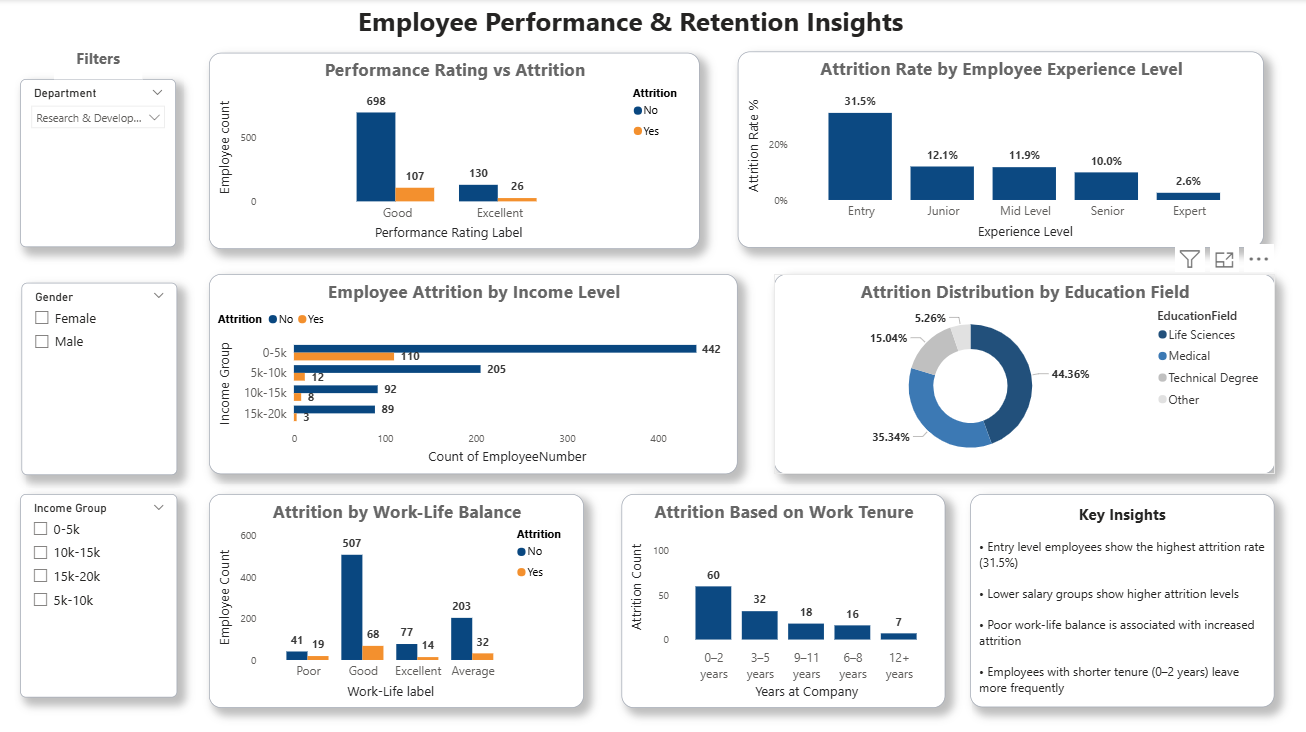

The page's visual inventory and layout, read from the dashboard file:
{"tool":"powerbi","page":{"name":"Employee performance & rentetion insights","canvas":[1600,900],"ordinal":1},"visuals":[{"type":"textbox","box":[207.5,0,1070.3,54.9],"z":0},{"type":"clusteredColumnChart","title":"Performance Rating vs Attrition","fields":{"Y":["CountNonNull(data set.EmployeeNumber)"],"Series":["data set.Attrition"],"Category":["data set.Performance Rating Label"]},"box":[257.3,65.2,600.3,240.1],"z":1000},{"type":"clusteredColumnChart","title":"Attrition Rate by Employee Experience Level","fields":{"Category":["data set.Experience Level"],"Y":["data set.Attrition Rate"]},"box":[903.4,64.2,643.5,240],"z":2000},{"type":"clusteredBarChart","title":"Employee Attrition by Income Level","fields":{"Category":["data set.Income Group"],"Y":["CountNonNull(data set.EmployeeNumber)"],"Series":["data set.Attrition"]},"box":[256.8,336.3,646.6,244.6],"z":3000},{"type":"donutChart","title":"Attrition Distribution by Education Field","fields":{"Category":["data set.EducationField"],"Y":["CountNonNull(data set.EmployeeNumber)"]},"box":[947.7,336.3,612.9,244.6],"z":4000},{"type":"clusteredColumnChart","title":"Attrition by Work-Life Balance","fields":{"Y":["CountNonNull(data set.EmployeeNumber)"],"Series":["data set.Attrition"],"Category":["Employee.WorkLifeLabel"]},"box":[256.8,605.3,458.6,261.4],"z":5000},{"type":"clusteredColumnChart","title":"Attrition Based on Work Tenure","fields":{"Y":["CountNonNull(Employee.Attrition)"],"Category":["Employee.Tenure Group"]},"box":[761.2,605.3,395.9,261.4],"z":6000},{"type":"slicer","fields":{"Values":["Employee.Department"]},"box":[25.7,97.8,190.4,205.8],"z":7000},{"type":"slicer","fields":{"Values":["Employee.Gender"]},"box":[27.4,346.5,190.4,235],"z":8000},{"type":"slicer","fields":{"Values":["Employee.Income Group"]},"box":[25.7,605.5,192.1,248.7],"z":9000},{"type":"textbox","box":[66.9,54.9,108.1,42.9],"z":10000},{"type":"textbox","box":[1187,605.5,372.2,260.7],"z":11000}]}

Visuals, with their boxes in screenshot pixels (x1, y1, x2, y2), scaled from the page's 1600x900 canvas onto the 1306x732 screenshot:
textbox: BBox(169, 0, 1043, 45)
"Performance Rating vs Attrition" clusteredColumnChart: BBox(210, 53, 700, 248)
"Attrition Rate by Employee Experience Level" clusteredColumnChart: BBox(737, 52, 1263, 247)
"Employee Attrition by Income Level" clusteredBarChart: BBox(210, 274, 737, 472)
"Attrition Distribution by Education Field" donutChart: BBox(774, 274, 1274, 472)
"Attrition by Work-Life Balance" clusteredColumnChart: BBox(210, 492, 584, 705)
"Attrition Based on Work Tenure" clusteredColumnChart: BBox(621, 492, 944, 705)
slicer - Employee.Department: BBox(21, 80, 176, 247)
slicer - Employee.Gender: BBox(22, 282, 178, 473)
slicer - Employee.Income Group: BBox(21, 492, 178, 695)
textbox: BBox(55, 45, 143, 80)
textbox: BBox(969, 492, 1273, 705)
